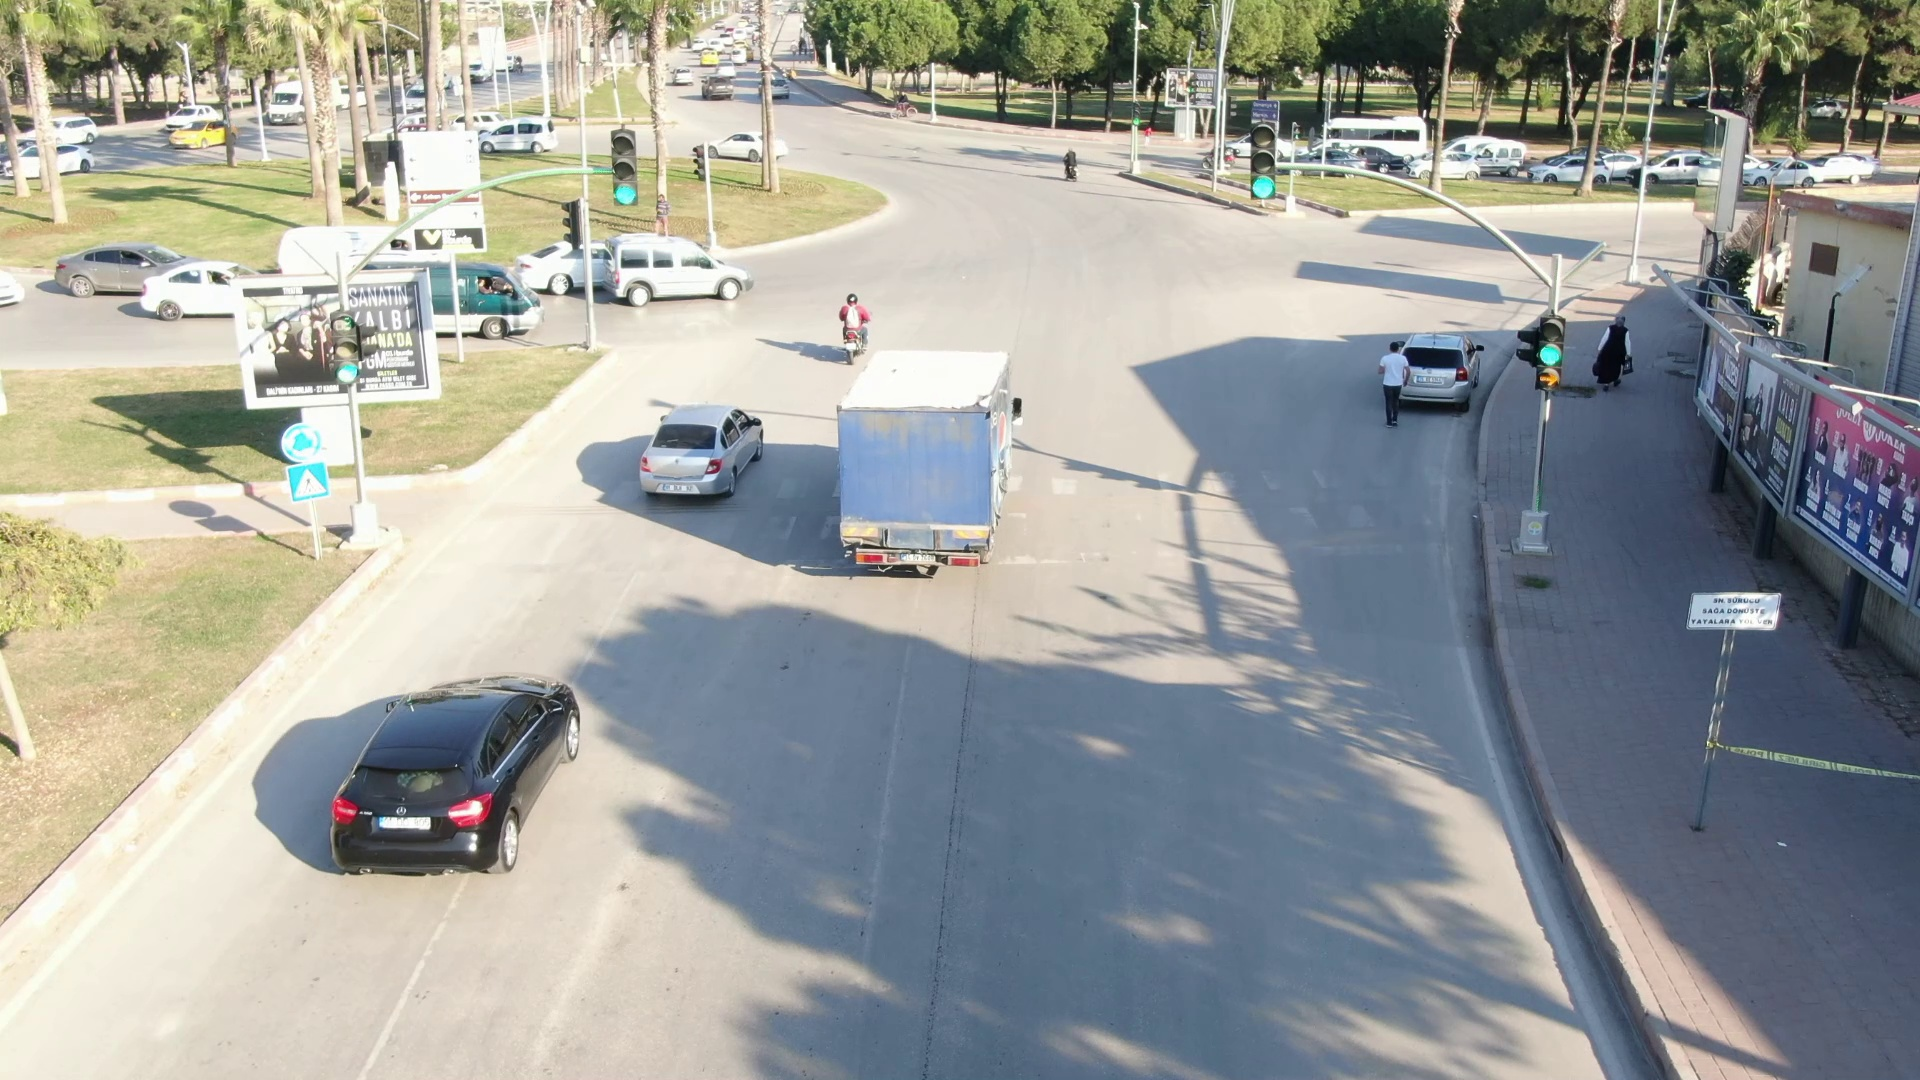car: (325, 650, 596, 895), (631, 382, 781, 518), (596, 228, 765, 316), (465, 107, 575, 157), (153, 109, 248, 157), (702, 127, 799, 169)
person: (1589, 309, 1640, 400), (1373, 334, 1418, 427)
